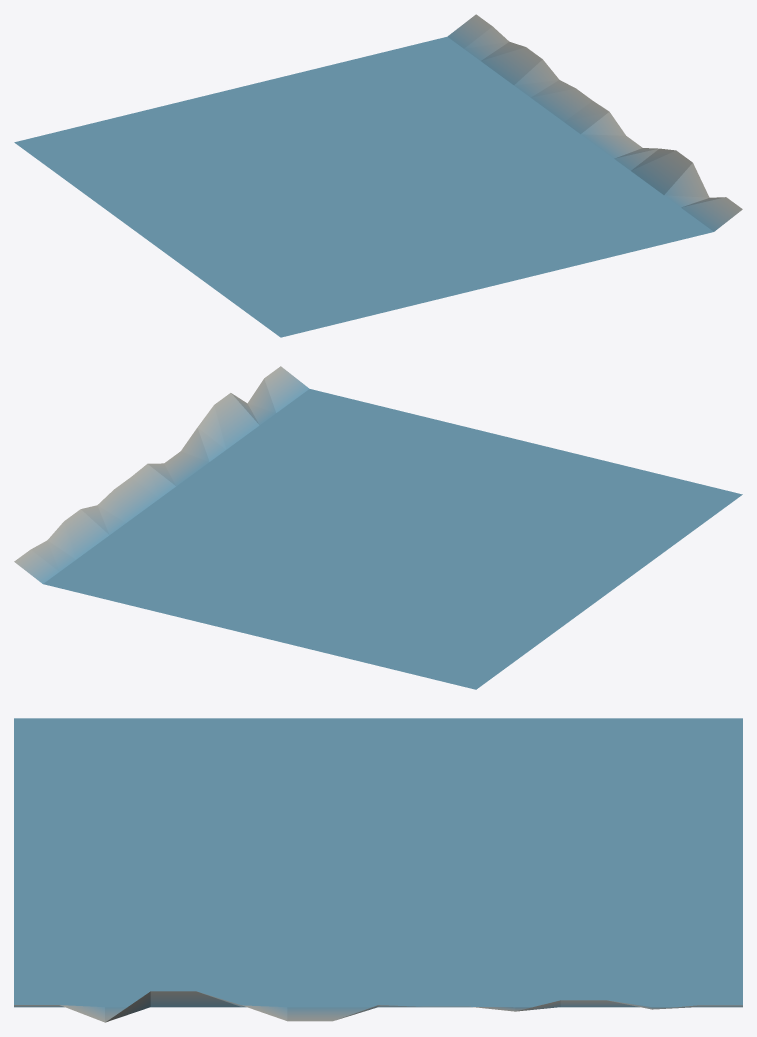
3 views of the same model, one above another, from view 1: azimuth 30°, elevation 25°; view 2: azimuth 150°, elevation 25°; view 3: azimuth 270°, elevation 25° (orthographic). The views are drawn at different scales.
Bounding box in the file's own units: 32 × 1.7 × 32.
